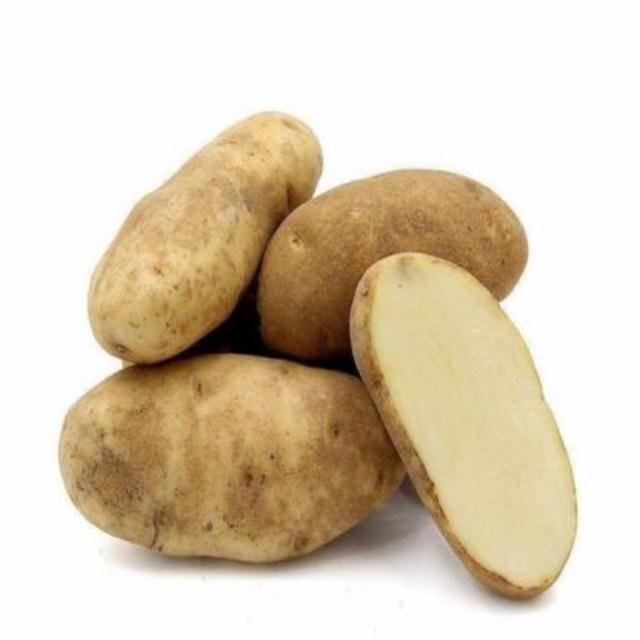potato: (59, 349, 414, 566), (86, 102, 324, 362), (259, 163, 538, 363)
